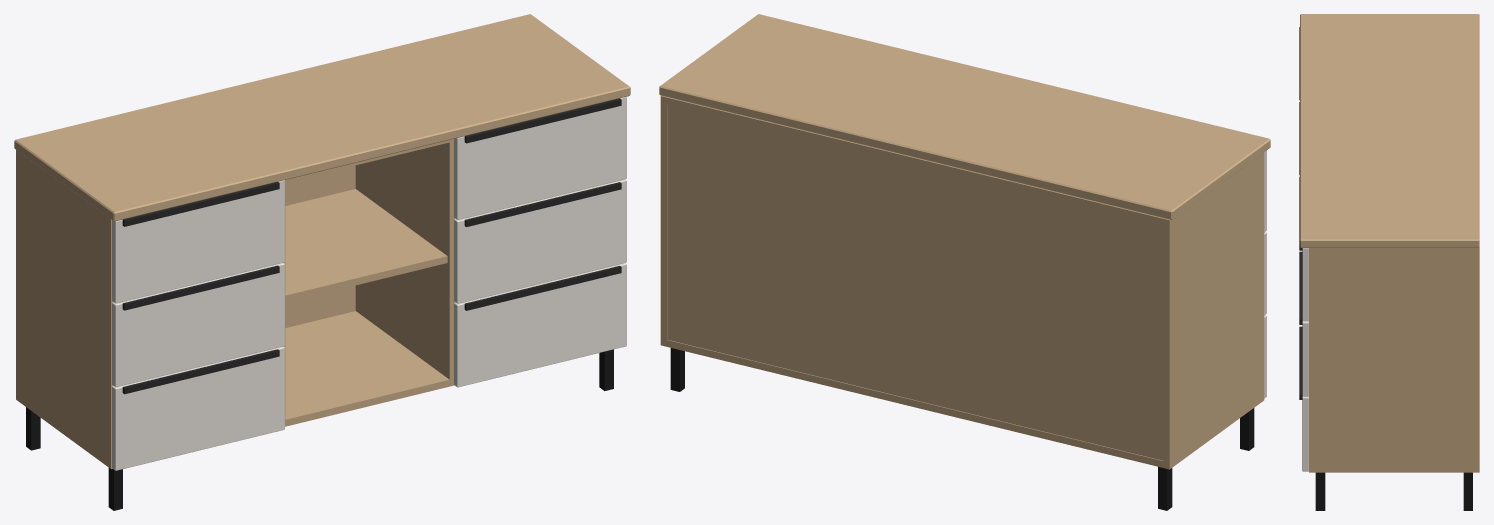
Rendered from 20_komoda_140_nisza.glb.
3 renders of one model, left to right at view 1: azimuth 30°, elevation 25°; view 2: azimuth 150°, elevation 25°; view 3: azimuth 270°, elevation 25°, orthographic. The views are drawn at different scales.
Parts seen in each view (by area): view 1: Korpus, Wierzch, Front_szuflada_8, Front_szuflada_2, Front_szuflada_3, Front_szuflada_7, Front_szuflada_1, Front_szuflada_6, Uchwyty, Nogi; view 2: Korpus, Wierzch, Nogi; view 3: Wierzch, Korpus, Uchwyty, Nogi, Front_szuflada_7, Front_szuflada_8, Front_szuflada_6.
Part boxes in pixels (x1,y1,x2,y2): Korpus: [16, 139, 455, 469]; Wierzch: [14, 14, 630, 221]; Front_szuflada_8: [454, 263, 626, 387]; Front_szuflada_2: [112, 263, 284, 386]; Front_szuflada_3: [112, 346, 284, 470]; Front_szuflada_7: [454, 179, 626, 303]; Front_szuflada_1: [112, 180, 284, 303]; Front_szuflada_6: [454, 97, 626, 219]; Uchwyty: [122, 98, 621, 394]; Nogi: [26, 349, 613, 510]; Korpus: [660, 95, 1264, 469]; Wierzch: [659, 14, 1270, 219]; Nogi: [670, 348, 1254, 510]; Wierzch: [1300, 14, 1479, 247]; Korpus: [1309, 247, 1479, 472]; Uchwyty: [1299, 27, 1302, 399]; Nogi: [1315, 472, 1472, 510]; Front_szuflada_7: [1302, 321, 1308, 396]; Front_szuflada_8: [1302, 396, 1308, 471]; Front_szuflada_6: [1302, 248, 1308, 321].
Size of the model in its own units: 1.41 by 0.8 by 0.476.
